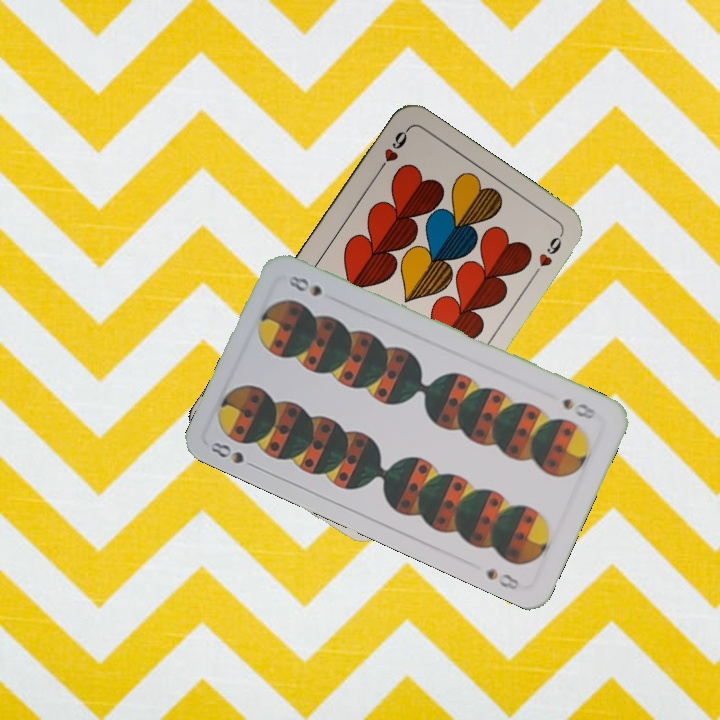H9: (372, 126, 411, 178)
S8: (206, 437, 262, 472), (558, 394, 598, 422)
